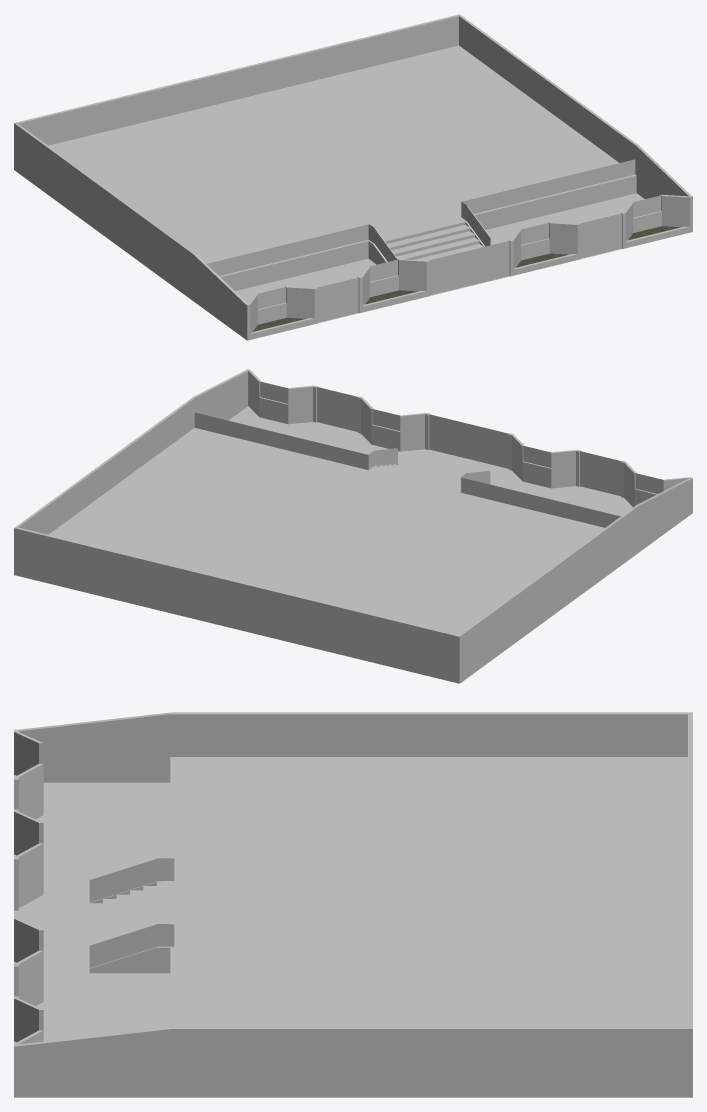
3 renders of one model, top to bottom at view 1: azimuth 30°, elevation 25°; view 2: azimuth 150°, elevation 25°; view 3: azimuth 270°, elevation 25°, orthographic. The views are drawn at different scales.
Parts seen in each view (by area): view 1: Base-26; view 2: Base-26; view 3: Base-26.
Part boxes in pixels (<box>): Base-26: <box>14,14,692,340</box>; Base-26: <box>14,369,692,683</box>; Base-26: <box>14,712,692,1097</box>.
Size of what is drawn, in the model's own units: 39.72 by 4 by 36.
